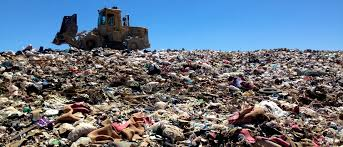garbage: (2, 51, 337, 147)
